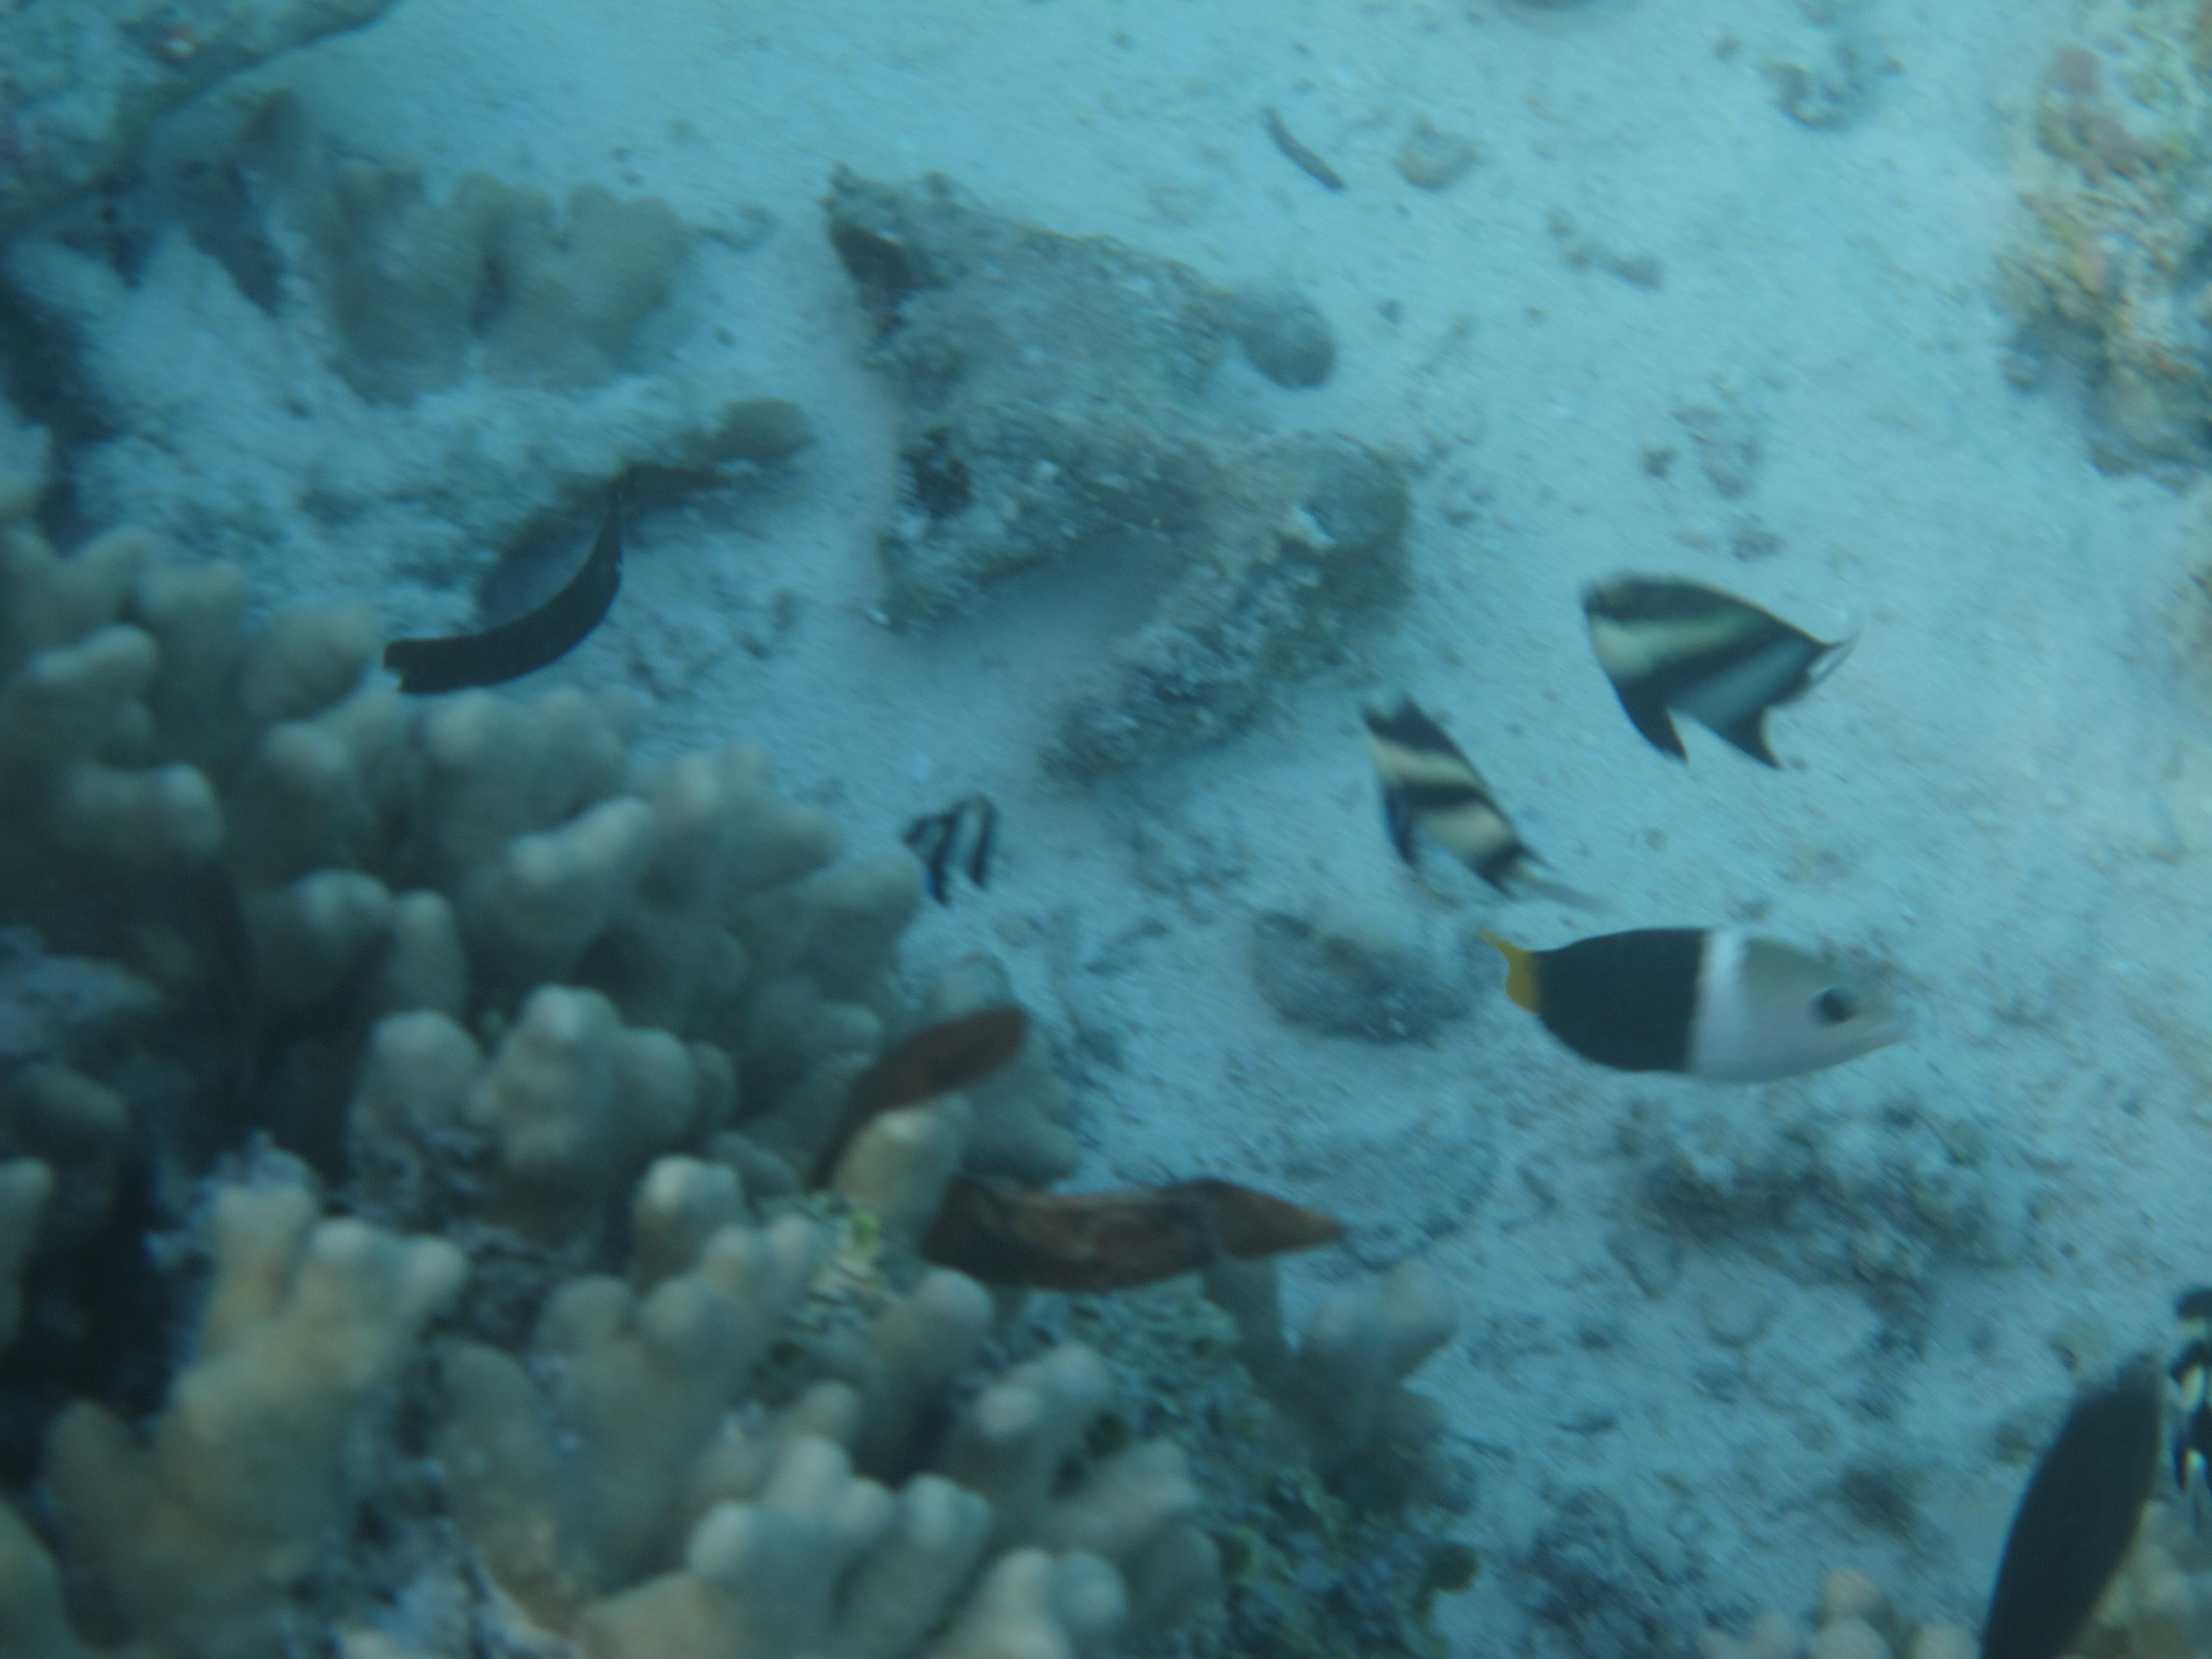Fish: (1477, 897, 1916, 1101)
